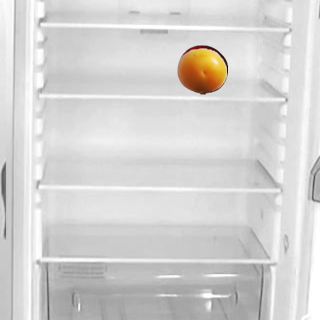Apple Braeburn: (177, 44, 227, 94)
Cherry Wax Yellow: (176, 44, 226, 94)
